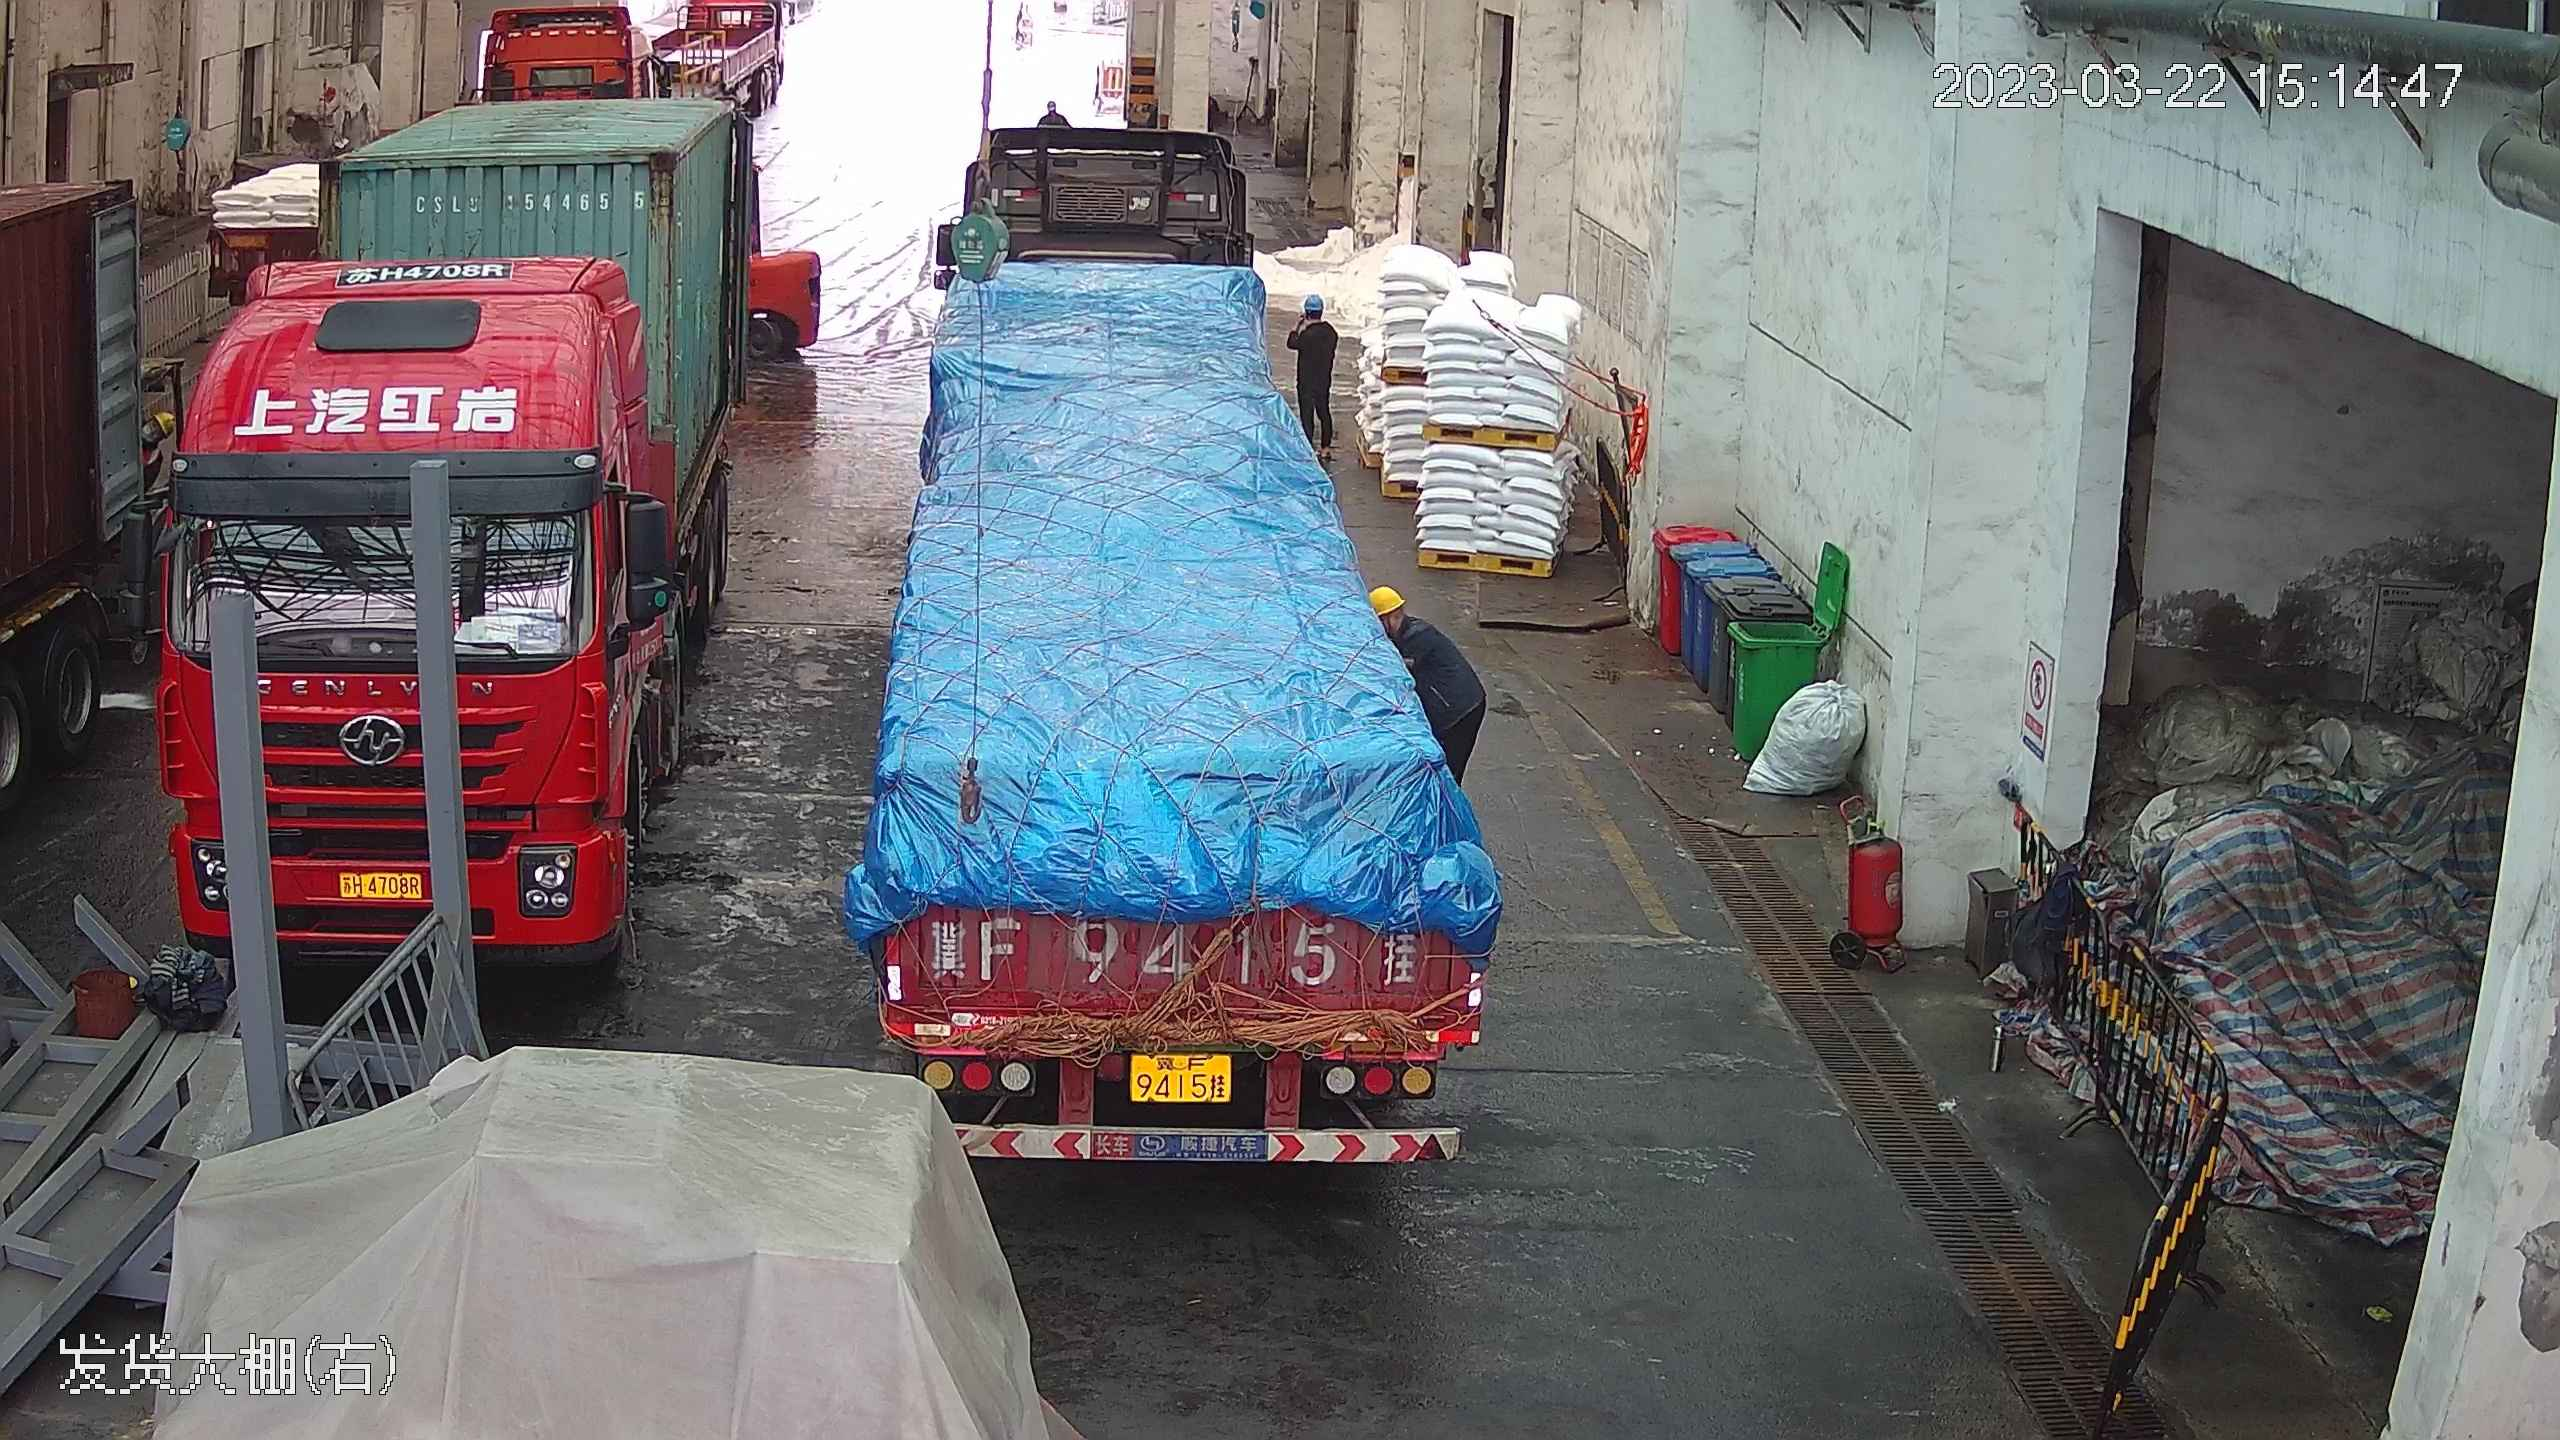head: (1366, 583, 1452, 663), (1289, 286, 1336, 344), (1038, 100, 1067, 126)
helmet: (1366, 583, 1406, 617), (1298, 285, 1325, 310), (1045, 99, 1058, 111)
people: (1286, 284, 1345, 457)
truck: (846, 76, 1513, 1171), (160, 10, 757, 967)
